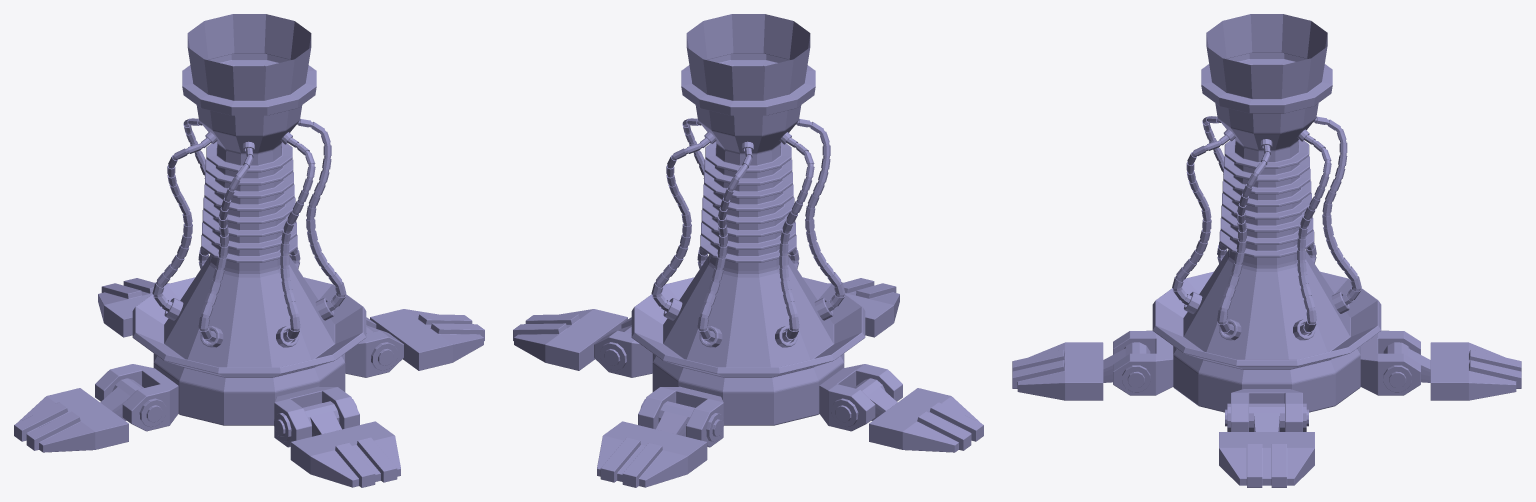
Rendered from TurbineBottom.fbx.
The picture shows the model from 3 angles, left to right: view 1: azimuth 30°, elevation 25°; view 2: azimuth 150°, elevation 25°; view 3: azimuth 270°, elevation 25°; orthographic projection. The views are drawn at different scales.
Visible parts, largest first — view 1: MainBody, Toe, Toe3, Toe1, Frame3, Frame, Toe2, cable2, cable1, cable5, cable6, Frame1 (+4 smaller); view 2: MainBody, Toe2, Toe3, Toe1, Frame3, Frame2, Toe, cable6, cable5, cable3, cable4, Frame1 (+4 smaller); view 3: MainBody, Toe1, Toe, Toe2, Frame2, Frame, Frame1, cable4, cable3, cable1, cable2, Joint2 (+3 smaller).
Part boxes in pixels (x1,y1,x2,y2): MainBody: [132, 14, 366, 425]; Toe: [290, 421, 400, 487]; Toe3: [14, 388, 128, 452]; Toe1: [370, 309, 484, 370]; Frame3: [95, 364, 178, 431]; Frame: [274, 386, 359, 447]; Toe2: [98, 278, 169, 337]; cable2: [297, 119, 346, 311]; cable1: [280, 137, 315, 342]; cable5: [152, 137, 211, 311]; cable6: [198, 147, 253, 342]; Frame1: [345, 317, 403, 377]; MainBody: [631, 14, 865, 425]; Toe2: [597, 421, 707, 487]; Toe3: [869, 388, 983, 452]; Toe1: [513, 309, 627, 370]; Frame3: [819, 364, 902, 431]; Frame2: [638, 386, 723, 447]; Toe: [828, 278, 899, 337]; cable6: [796, 119, 845, 311]; cable5: [779, 137, 814, 342]; cable3: [651, 137, 710, 311]; cable4: [697, 147, 752, 342]; Frame1: [594, 317, 652, 377]; MainBody: [1152, 14, 1381, 412]; Toe1: [1219, 432, 1314, 487]; Toe: [1012, 342, 1103, 400]; Toe2: [1430, 342, 1521, 400]; Frame2: [1360, 330, 1420, 395]; Frame: [1113, 330, 1173, 395]; Frame1: [1231, 389, 1302, 431]; cable4: [1313, 116, 1361, 305]; cable3: [1297, 135, 1331, 335]; cable1: [1172, 135, 1229, 305]; cable2: [1217, 145, 1270, 334]; Joint2: [1225, 403, 1308, 431].
Size of the model in its own units: 20.62 by 15.24 by 20.62.
